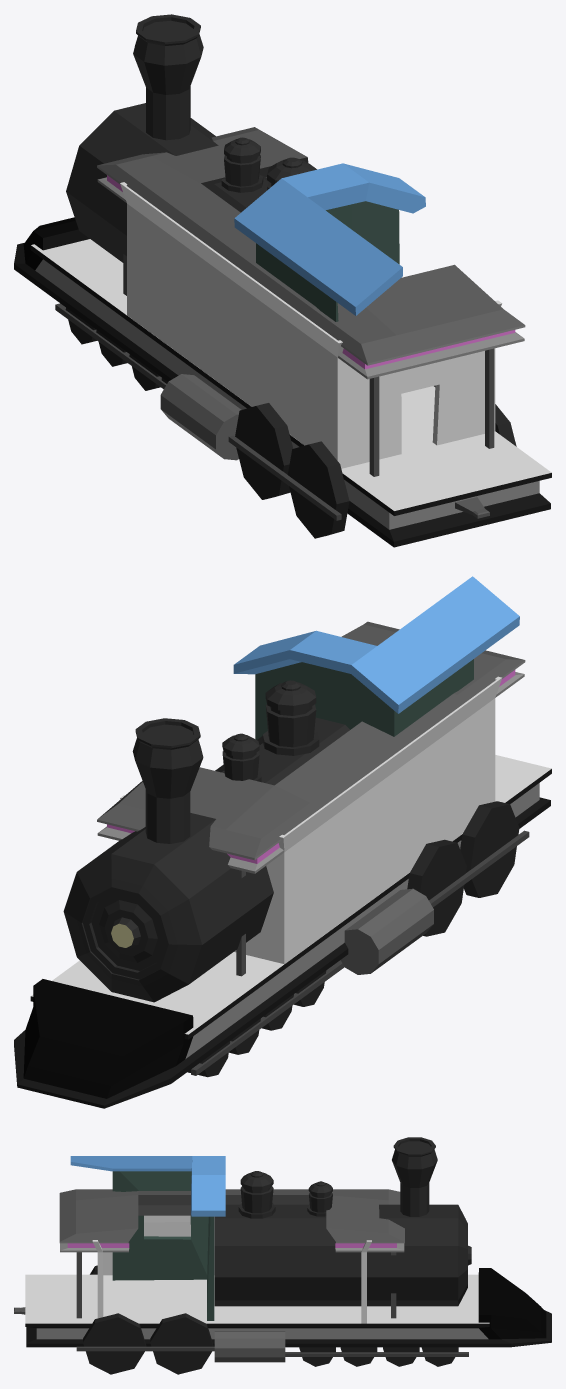
The model's file is Main_Train.fbx.
The picture shows the model from 3 angles, top to bottom: view 1: azimuth 30°, elevation 25°; view 2: azimuth 150°, elevation 25°; view 3: azimuth 270°, elevation 25°; orthographic projection. The views are drawn at different scales.
Parts seen in each view (by area): view 1: Base_floor, wall, roof, Engine_wall, Train, wall.001, wheel, Railing, Pillars; view 2: Train, Base_floor, Engine_wall, roof, wall, wall.001, wheel, Railing; view 3: Train, Base_floor, roof, Engine_wall, wheel, Railing, wall, wall.001, Pillars.
Part boxes in pixels (bbox=[...]): Base_floor: bbox=[14, 217, 551, 547]; wall: bbox=[127, 204, 495, 468]; roof: bbox=[97, 127, 525, 379]; Engine_wall: bbox=[234, 163, 425, 321]; Train: bbox=[66, 14, 316, 262]; wall.001: bbox=[120, 182, 502, 414]; wheel: bbox=[65, 308, 516, 538]; Railing: bbox=[55, 303, 341, 520]; Pillars: bbox=[123, 254, 494, 476]; Train: bbox=[63, 680, 349, 1002]; Base_floor: bbox=[14, 755, 551, 1108]; Engine_wall: bbox=[233, 576, 519, 739]; roof: bbox=[97, 621, 525, 873]; wall: bbox=[234, 698, 495, 964]; wall.001: bbox=[120, 676, 501, 909]; wheel: bbox=[187, 801, 519, 1077]; Railing: bbox=[191, 830, 529, 1075]; Train: bbox=[214, 1137, 471, 1306]; Base_floor: bbox=[25, 1268, 551, 1347]; roof: bbox=[59, 1189, 404, 1252]; Engine_wall: bbox=[70, 1156, 225, 1320]; wheel: bbox=[83, 1265, 458, 1374]; Railing: bbox=[76, 1331, 468, 1362]; wall: bbox=[97, 1215, 366, 1323]; wall.001: bbox=[92, 1220, 371, 1323]; Pillars: bbox=[76, 1252, 396, 1318].
Size of the model in its own units: 2617 by 3644 by 8871.
